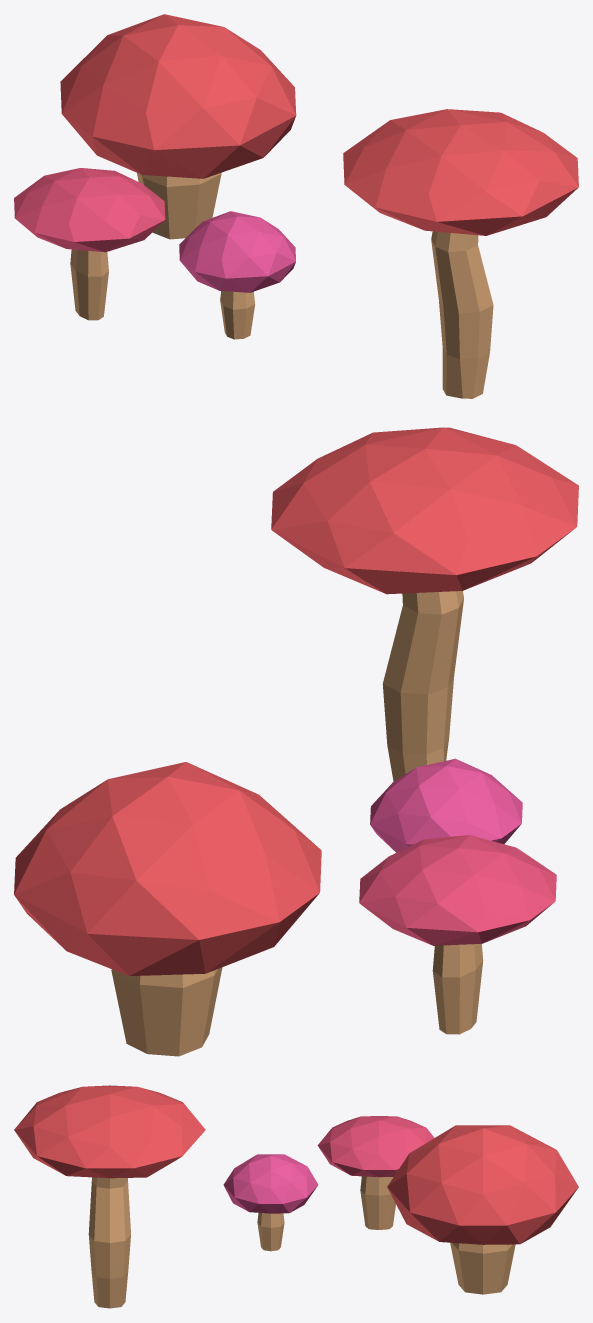
Rendered from mushroom_patch.fbx.
The picture shows the model from 3 angles, top to bottom: view 1: azimuth 30°, elevation 25°; view 2: azimuth 150°, elevation 25°; view 3: azimuth 270°, elevation 25°; orthographic projection. The views are drawn at different scales.
Visible parts, largest first — view 1: Icosphere.002; view 2: Icosphere.002; view 3: Icosphere.002.
Boxes of the visible parts, x1,y1,x2,y2 form: Icosphere.002: (14,14,578,398); Icosphere.002: (14,427,578,1056); Icosphere.002: (14,1085,578,1308).
Size of the model in its own units: 405 by 283 by 699.
